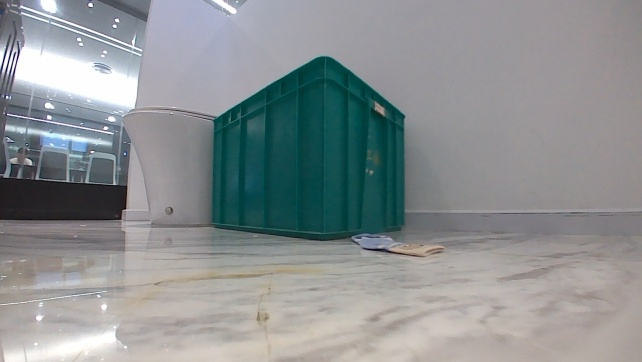dining_table: (0, 136, 120, 185)
socks: (350, 228, 449, 259)
toilet: (116, 102, 216, 229)
